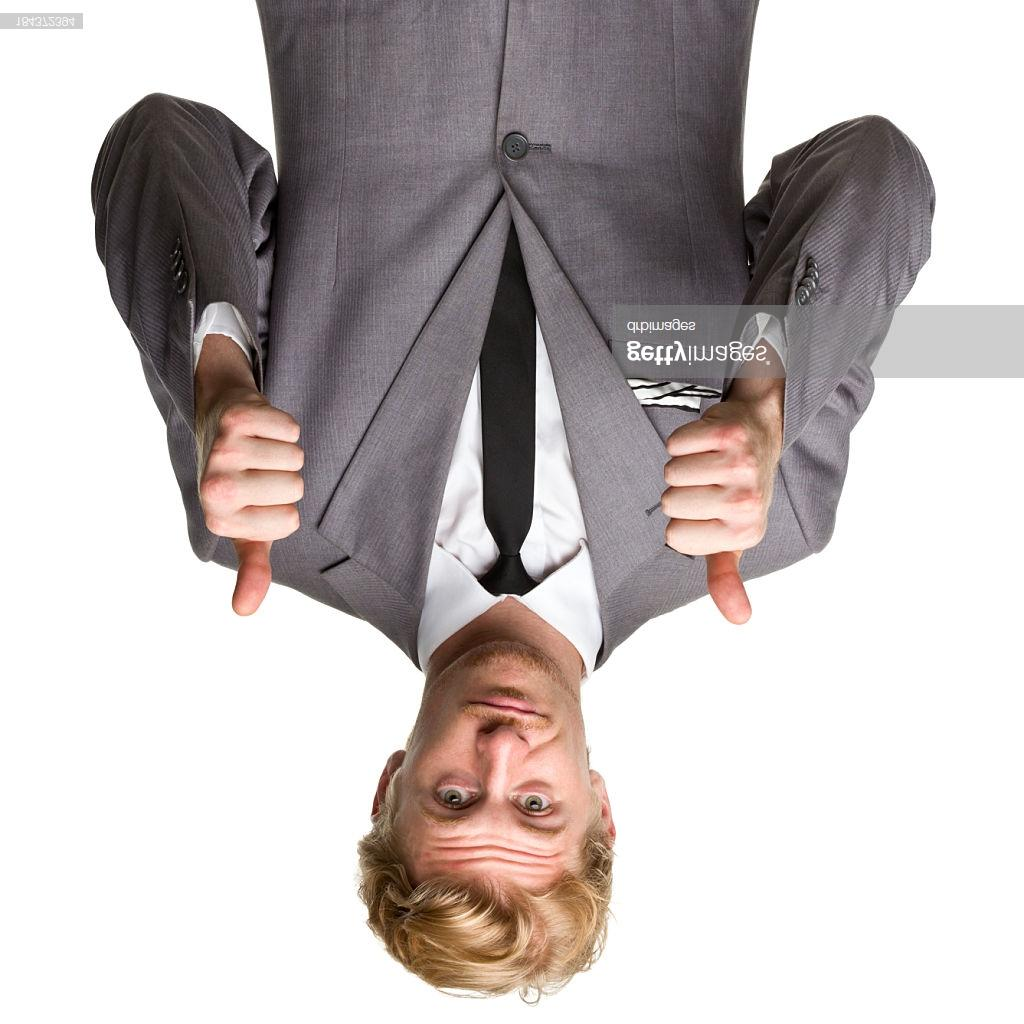thumbsdown: (196, 399, 306, 618), (661, 413, 767, 626)
